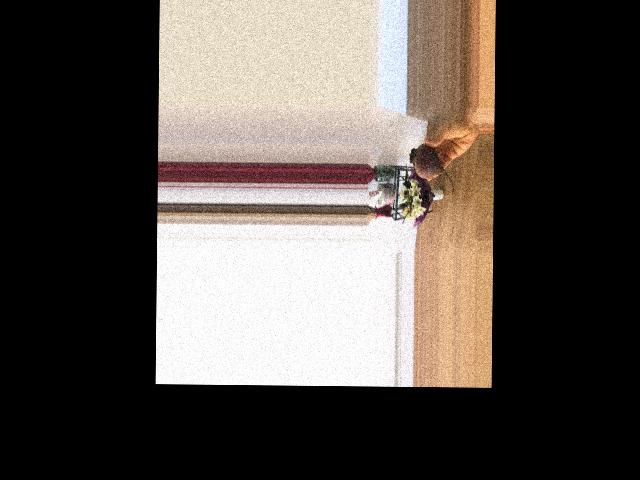beet: (409, 143, 454, 195)
